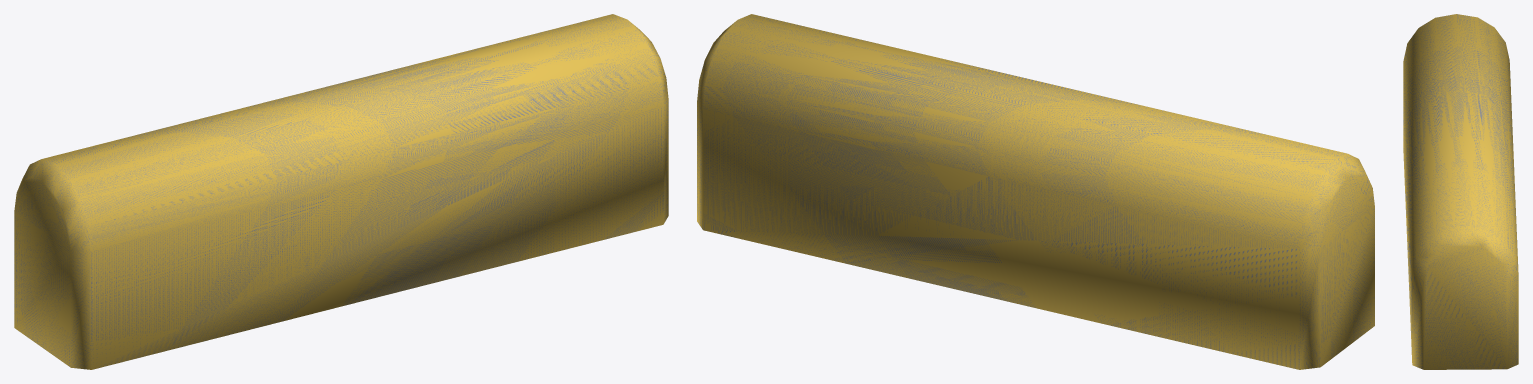
File: original-107.obj
3 renders of one model, left to right at view 1: azimuth 30°, elevation 25°; view 2: azimuth 150°, elevation 25°; view 3: azimuth 270°, elevation 25°, orthographic. The views are drawn at different scales.
Visible parts, largest first — view 1: mesh105/mesh105-geometry#mesh105-geometry; view 2: mesh105/mesh105-geometry#mesh105-geometry; view 3: mesh105/mesh105-geometry#mesh105-geometry.
Part boxes in pixels (box(x1,y1,x2,y2)): mesh105/mesh105-geometry#mesh105-geometry: box(14, 14, 668, 369); mesh105/mesh105-geometry#mesh105-geometry: box(697, 14, 1374, 369); mesh105/mesh105-geometry#mesh105-geometry: box(1403, 14, 1518, 369).
Size of the model in its own units: 0.156 by 0.0443 by 0.0338.
